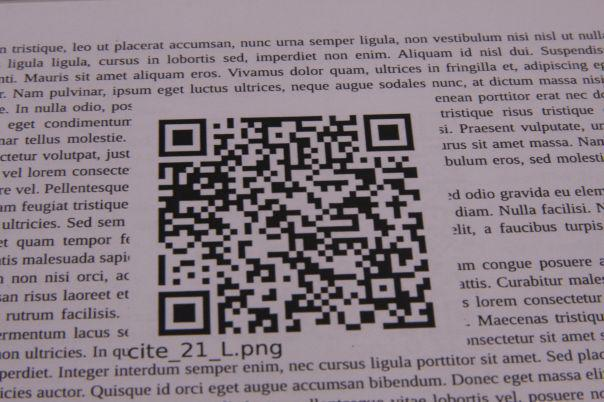Finder pattern: (154, 287, 215, 341), (360, 110, 417, 156), (154, 116, 211, 159)
